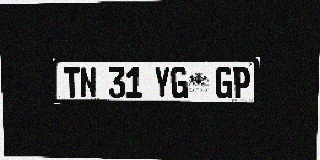1: (125, 67, 142, 98)
3: (109, 67, 125, 98)
G: (215, 67, 232, 98), (171, 67, 187, 98)
N: (80, 67, 96, 98)
P: (233, 67, 250, 99)
T: (64, 67, 80, 98)
Y: (154, 67, 170, 98)
